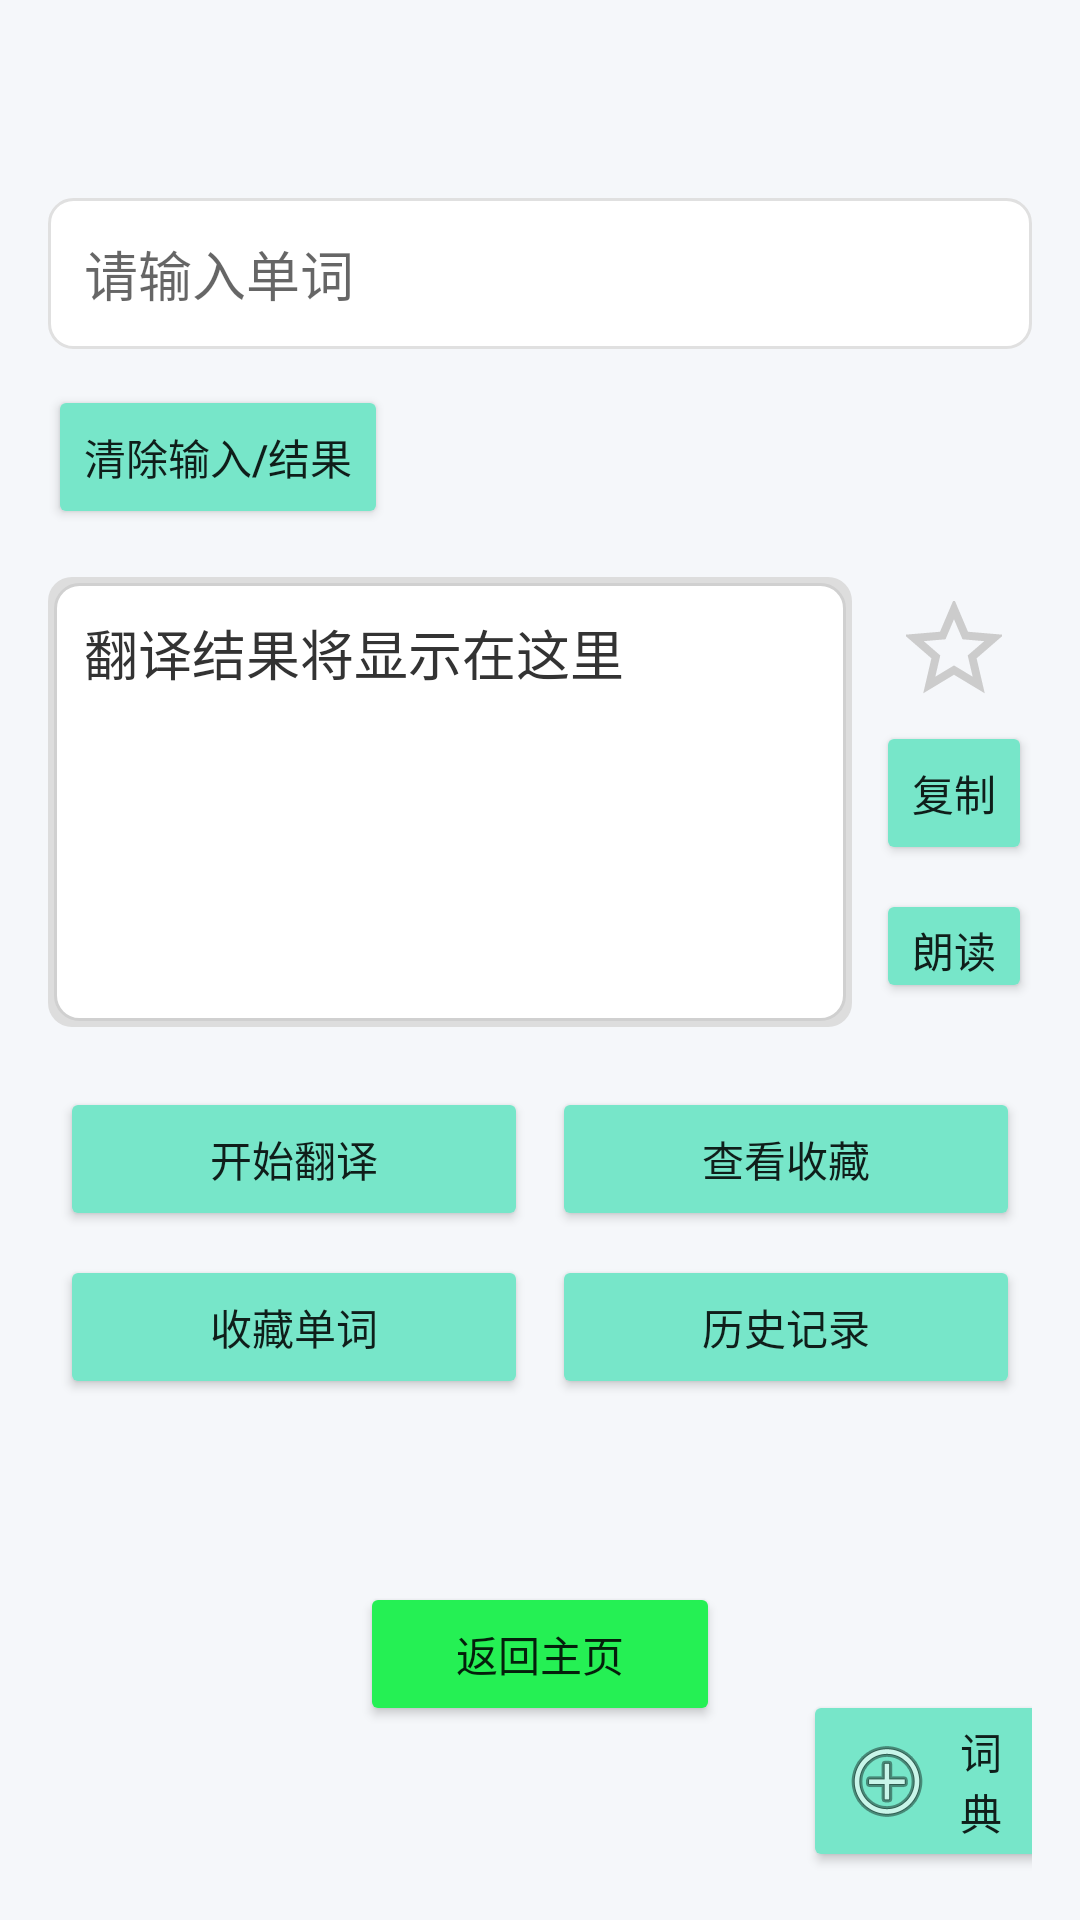

Icons on this 1080w x 1920h Android screen, each with its box as (x1, y1, x2, y2):
star: (906, 601, 1002, 693)
